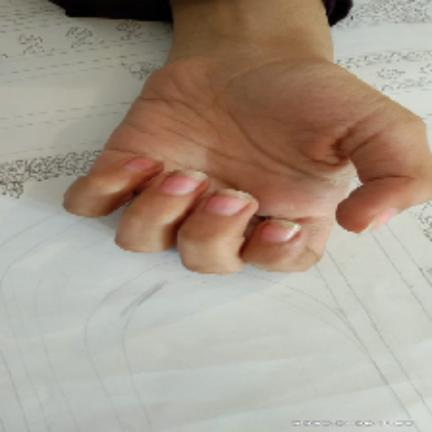Nail: (205, 189, 252, 216), (162, 170, 208, 195), (360, 208, 399, 235), (260, 219, 301, 242), (124, 151, 162, 172)
